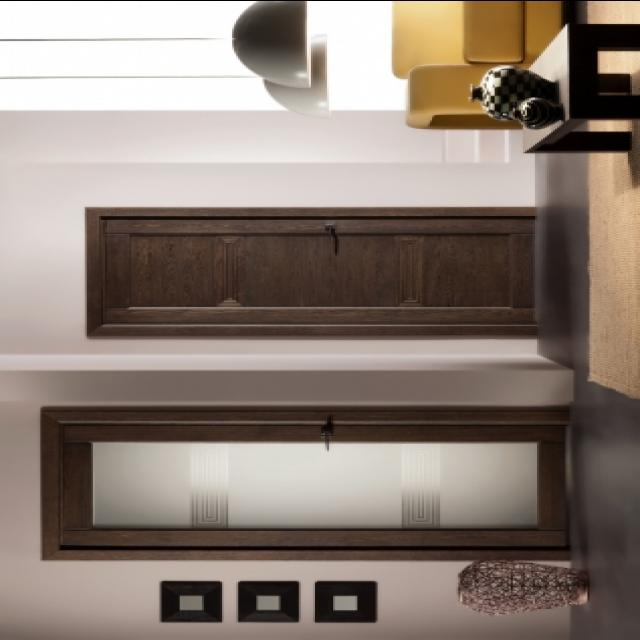close: (39, 407, 571, 556), (88, 208, 540, 336)
